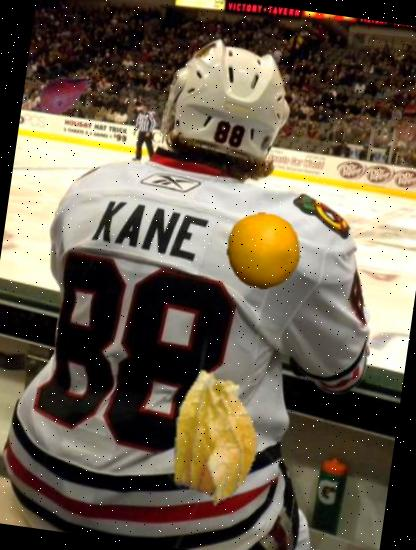Grapefruit: (220, 208, 307, 294)
Physalis: (138, 360, 294, 516)
Salak: (26, 59, 98, 132)
